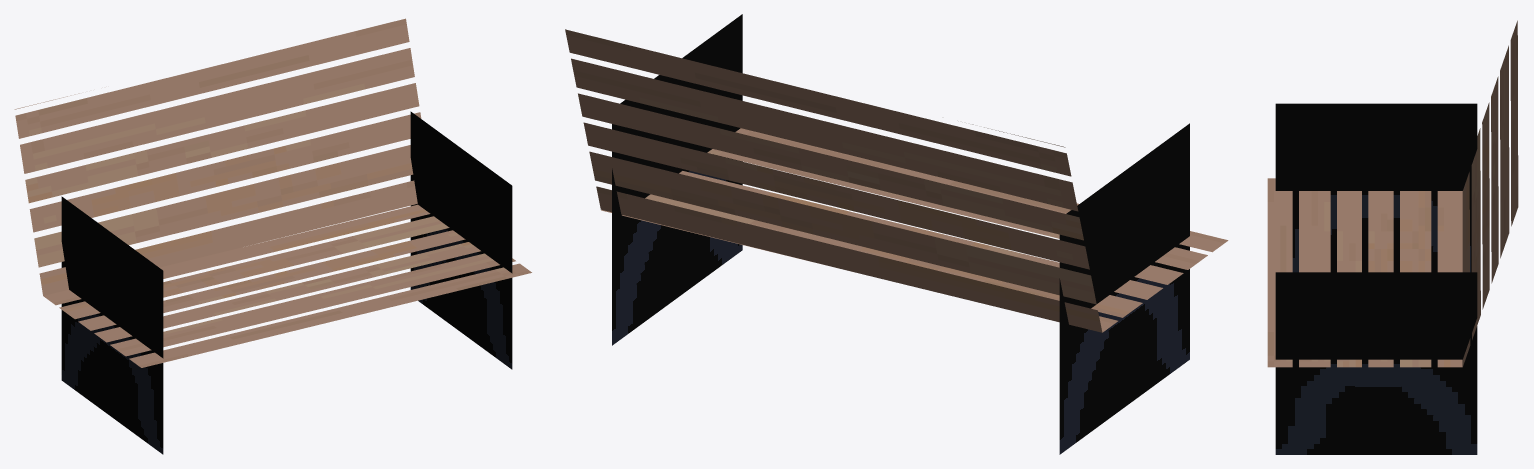
File: bench.glb
3 renders of one model, left to right at view 1: azimuth 30°, elevation 25°; view 2: azimuth 150°, elevation 25°; view 3: azimuth 270°, elevation 25°, orthographic. The views are drawn at different scales.
Visible parts, largest first — view 1: bench-col, Plane.001; view 2: bench-col, Plane.001; view 3: Plane.001, bench-col.
Part boxes in pixels (box(x1,y1,x2,y2)): bench-col: box(14, 18, 531, 367); Plane.001: box(61, 111, 512, 454); bench-col: box(565, 29, 1228, 332); Plane.001: box(612, 14, 1189, 454); Plane.001: box(1275, 103, 1477, 454); bench-col: box(1267, 20, 1518, 367).
Bounding box in the file's own units: 4.44 × 2.84 × 2.56.
Materials: 2 (2 with a texture image).
